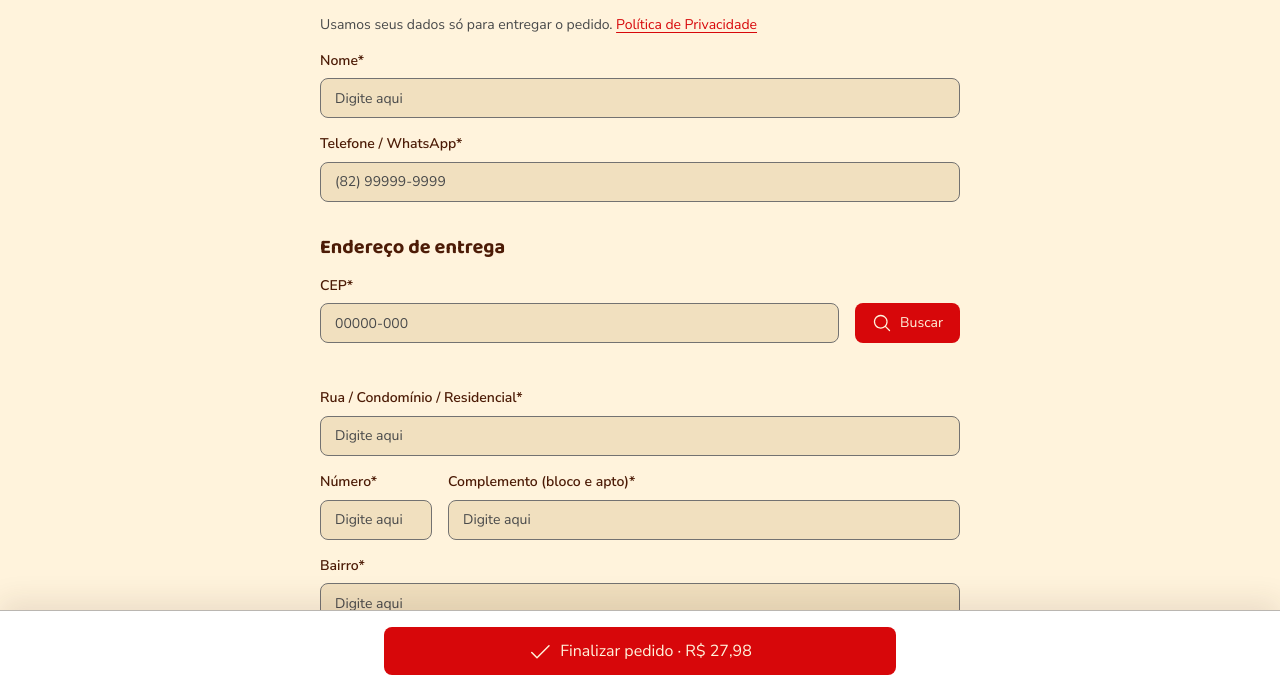
Test: taxa de entrega por CEP no Seu pedido › até 500 m a entrega é grátis e o total não muda
(page scrolled)
In the field labelled "CEP*": coordinates (580, 323) [333,304,826,342], type "57046000"
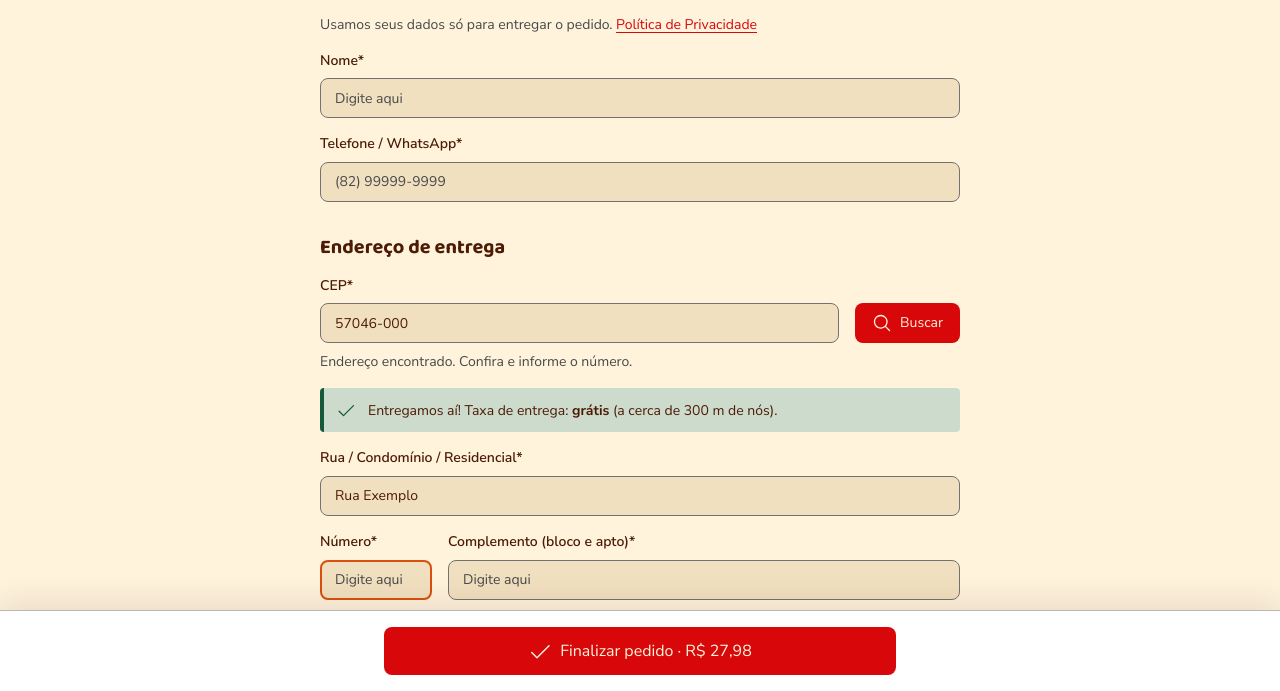
Expected: the button "Finalizar pedido · R$ 27,98" is shown, [384,627,896,675]
Expected: the text "Entregamos aí!" is shown, [368,401,572,420]
Expected: the text "Taxa de entrega: grátis" is shown, [368,401,777,420]
